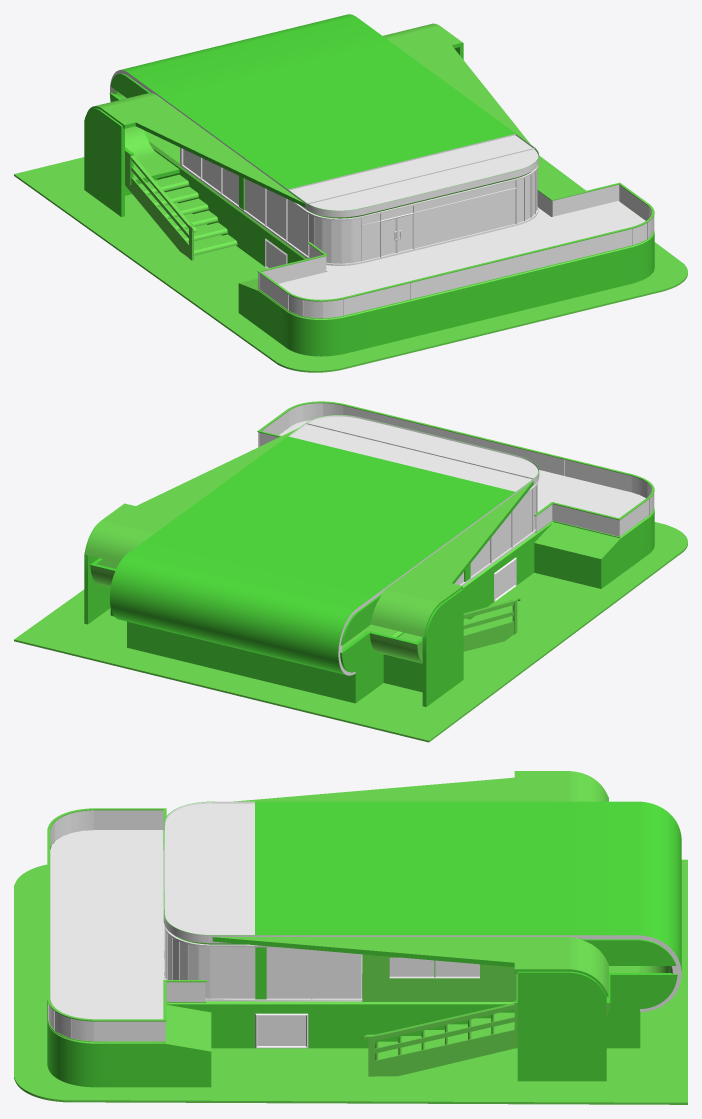
File: Futuristic Apartment_Cycles.glb
3 views of the same model, one above another, from view 1: azimuth 30°, elevation 25°; view 2: azimuth 150°, elevation 25°; view 3: azimuth 270°, elevation 25° (orthographic). The views are drawn at different scales.
Parts seen in each view (by area): view 1: Walls_outside, FLoor_white, Glas, Tiles_outside_1, Metal_1, Cube.009; view 2: Walls_outside, FLoor_white, Glas, Metal_1, Tiles_outside_1; view 3: Walls_outside, FLoor_white, Glas, Tiles_outside_1, Metal_1.
Boxes of the visible parts, bbox=[...] form: Walls_outside: bbox=[84, 14, 654, 356]; FLoor_white: bbox=[14, 23, 687, 372]; Glas: bbox=[183, 135, 653, 318]; Tiles_outside_1: bbox=[278, 201, 645, 299]; Metal_1: bbox=[110, 70, 654, 318]; Cube.009: bbox=[380, 212, 414, 258]; Walls_outside: bbox=[84, 415, 654, 706]; FLoor_white: bbox=[14, 401, 687, 742]; Glas: bbox=[259, 403, 653, 584]; Metal_1: bbox=[258, 403, 654, 675]; Tiles_outside_1: bbox=[279, 420, 645, 517]; Walls_outside: bbox=[47, 801, 681, 1087]; FLoor_white: bbox=[14, 771, 687, 1104]; Glas: bbox=[49, 803, 479, 1041]; Tiles_outside_1: bbox=[50, 830, 164, 1019]; Metal_1: bbox=[48, 801, 681, 1048].
Size of what is drawn, in the model's own units: 24.77 by 5.46 by 29.03.
